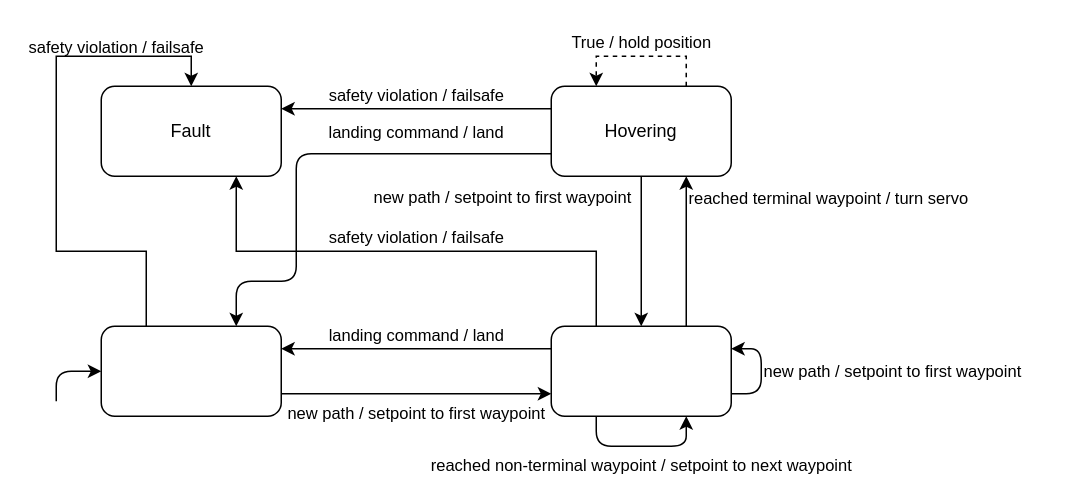
The diagram is 1071 pixels wide and 501 high, and some of its shapes have lost their labels. The shapes that lost their labels are listed below. From the top down, each one's box as (x1, y1, x2, y2) in pixels, then its label:
(100, 325, 281, 416): Grounded
(550, 325, 731, 416): Following path
